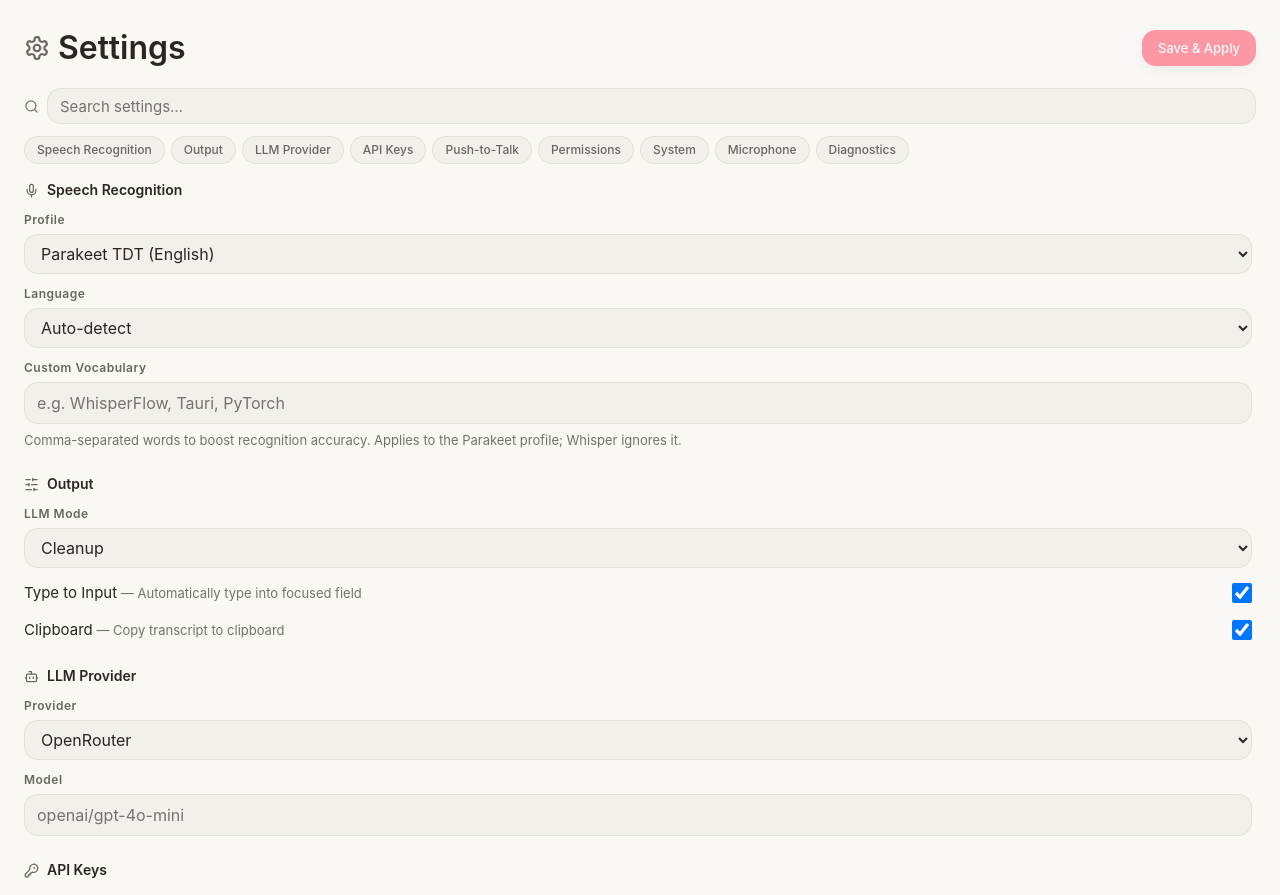
SettingsPanel › discards edits back to the saved settings
This screenshot has width=1280, height=895.
Select "German" in the dropdown labelled "Language" at (638, 328), box [24,308,1252,348]
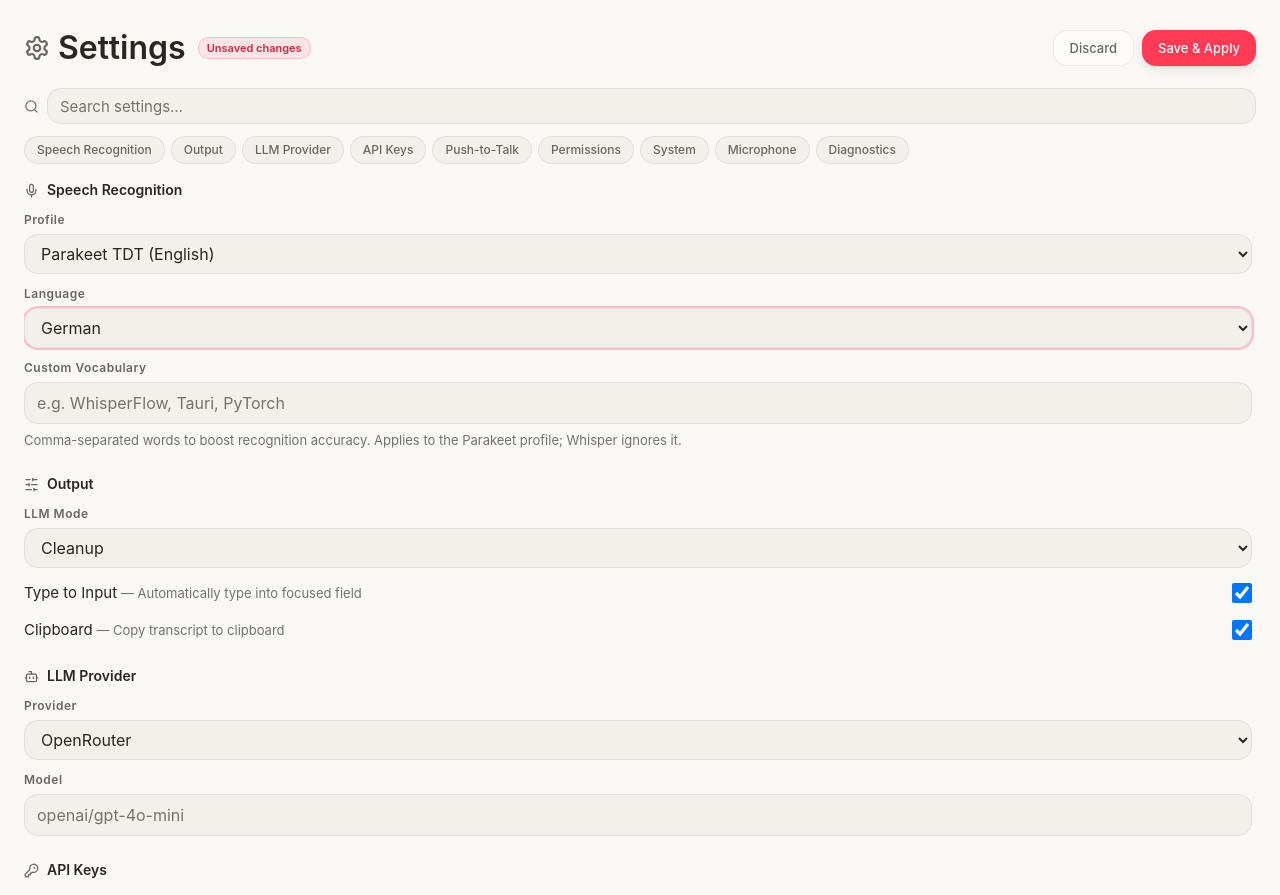
Click the button "Discard" at (1093, 48), box [1052,30,1134,66]
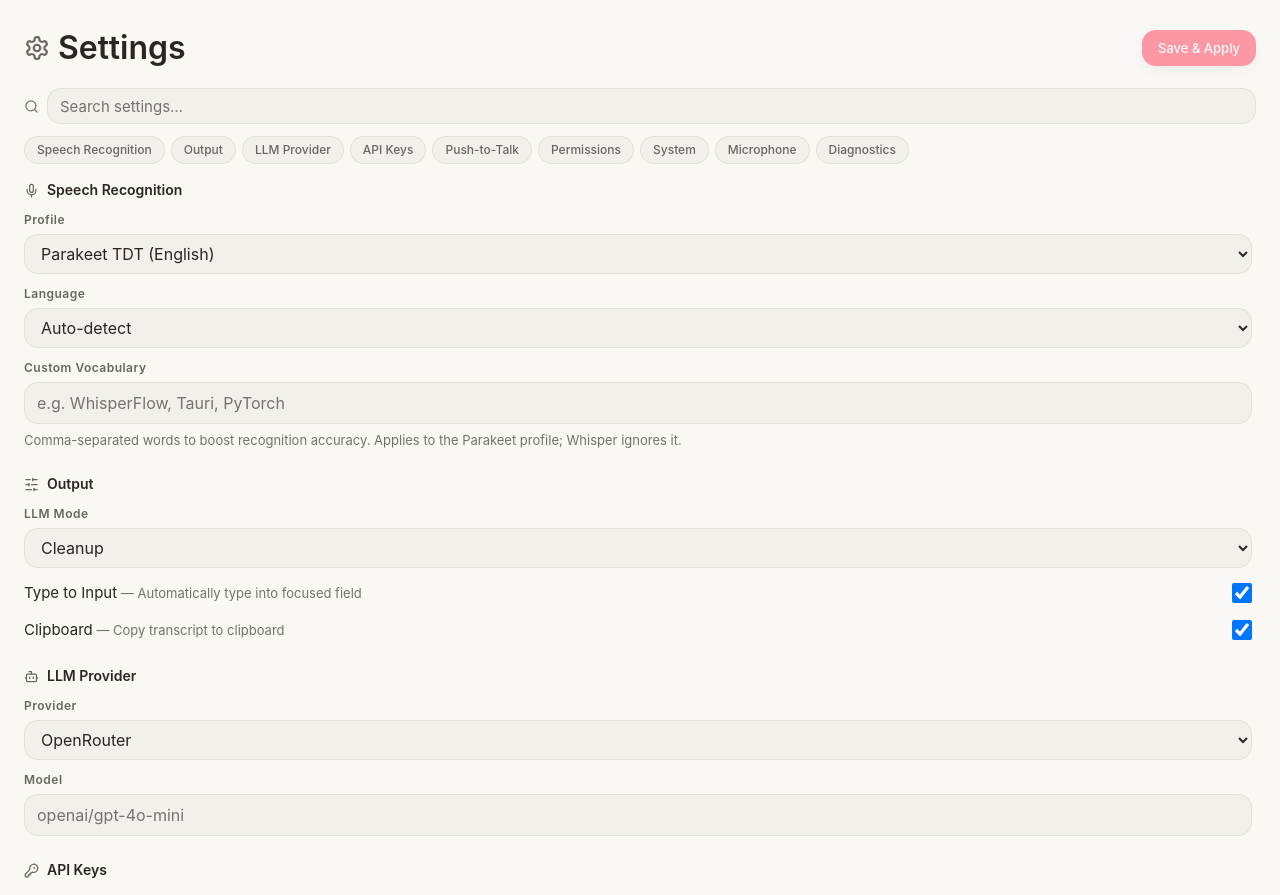
Expected: the button "Save & Apply" is disabled, [1142,30,1256,66]
